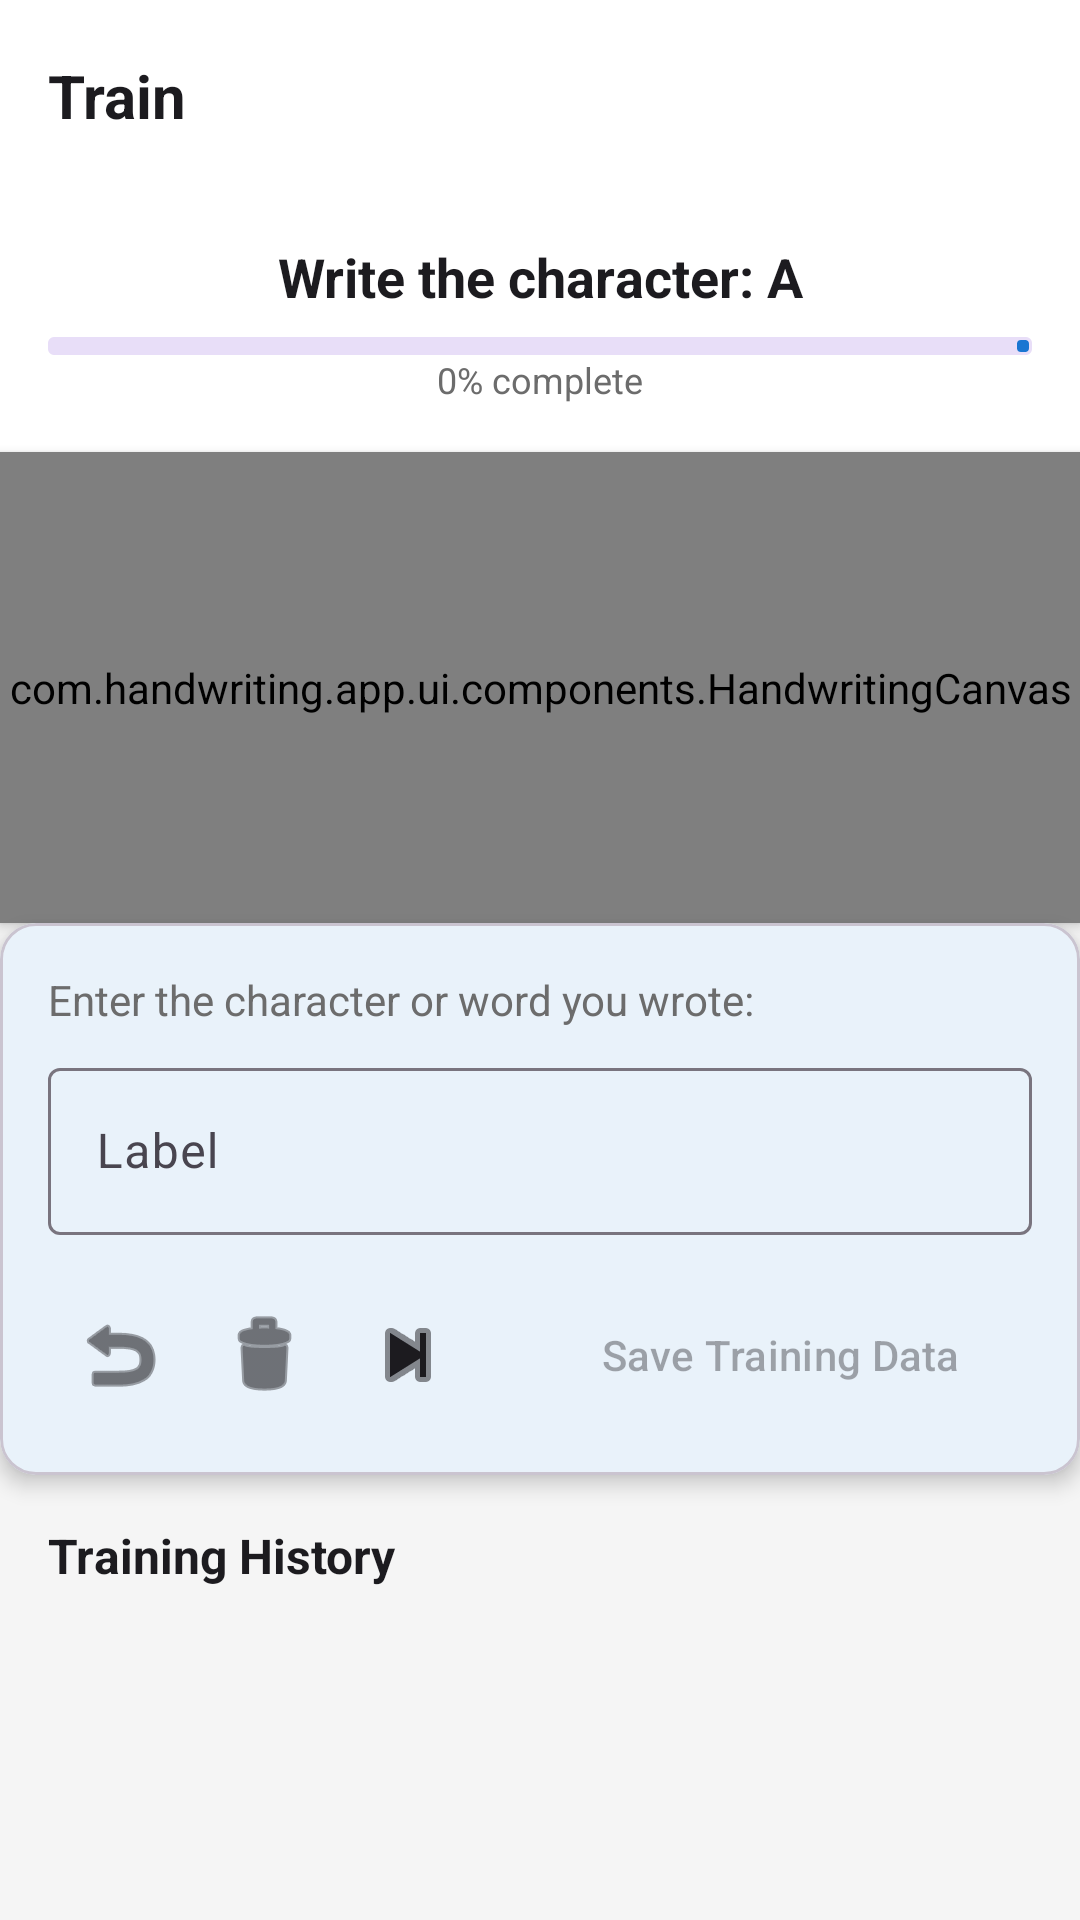

Screen size 1080*1920. Icon name, then its box in pixels as rect(x1, y1, x2, y2):
Clear: rect(237, 1316, 292, 1391)
Skip: rect(385, 1328, 431, 1382)
Undo: rect(87, 1324, 156, 1387)
